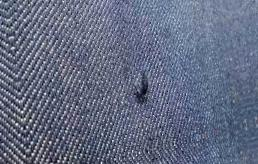knot: (129, 69, 152, 103)
